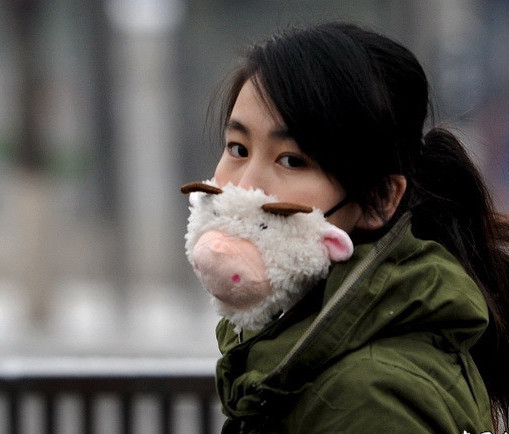face_mask: (201, 66, 361, 277)
